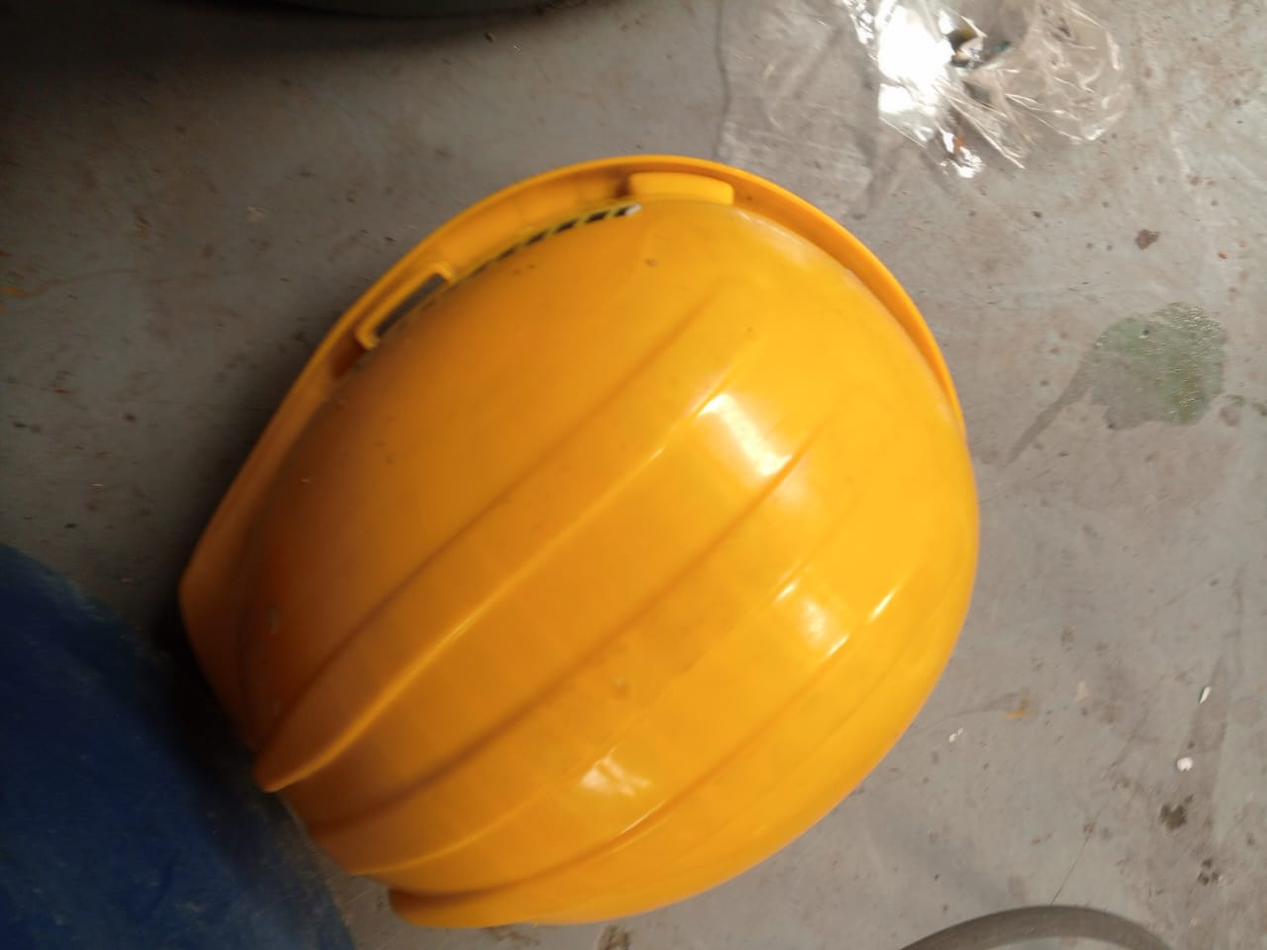Plastico: (182, 154, 977, 930)
